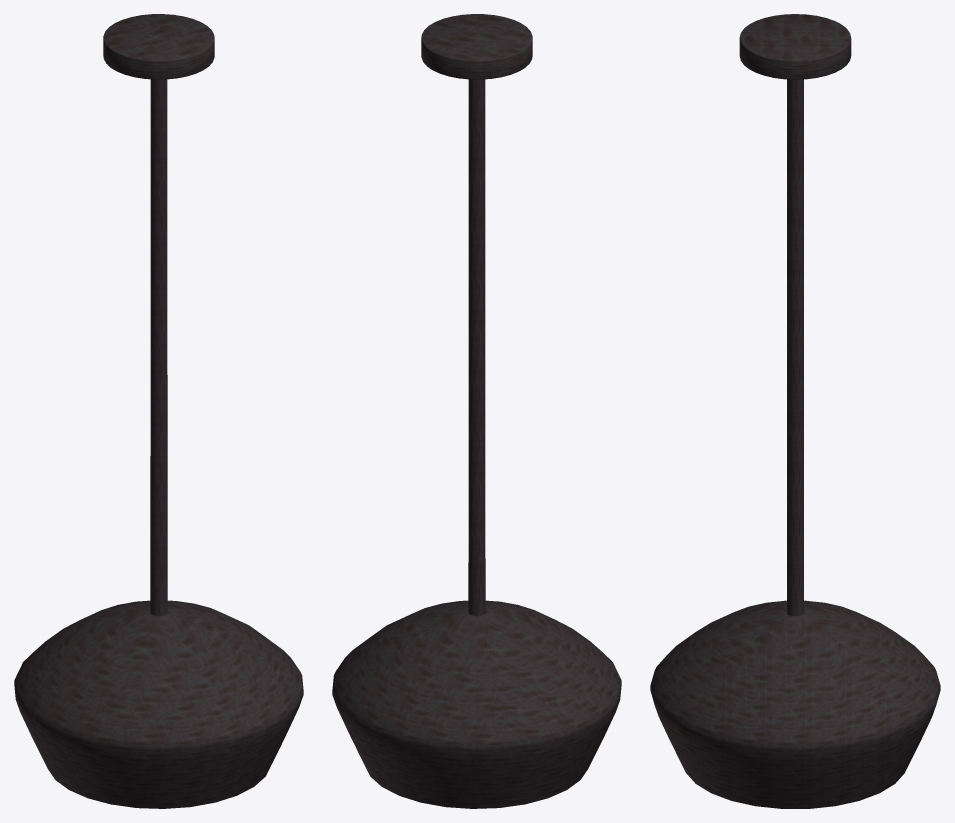
File: Lamp_B.glb
The picture shows the model from 3 angles, left to right: view 1: azimuth 30°, elevation 25°; view 2: azimuth 150°, elevation 25°; view 3: azimuth 270°, elevation 25°; orthographic projection.
Parts seen in each view (by area): view 1: Lamp_B; view 2: Lamp_B; view 3: Lamp_B.
Part boxes in pixels (bbox=[...]): Lamp_B: bbox=[14, 14, 303, 808]; Lamp_B: bbox=[332, 14, 621, 808]; Lamp_B: bbox=[650, 14, 940, 808].
Size of the model in its own units: 0.3255 by 0.9025 by 0.3278.
Materials: 1 (1 with a texture image).
